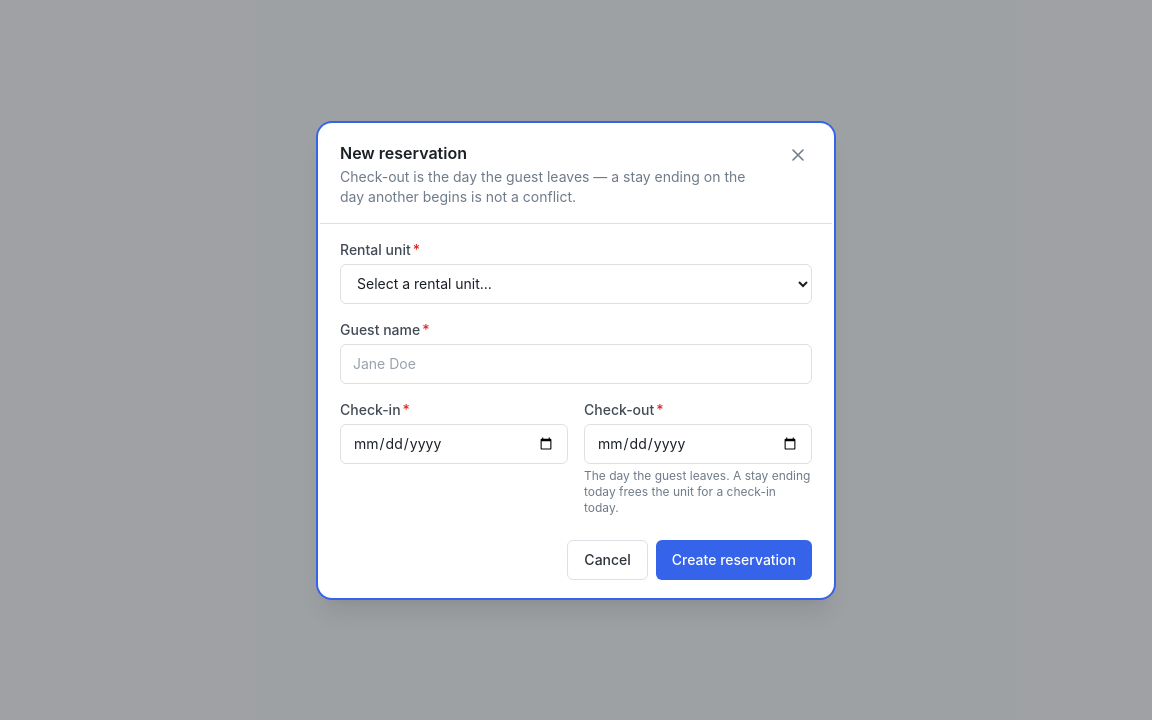
ReservationFormModal — create › sends nothing when the client-side date check fails
Select "Seaside flat" in the dropdown labelled "Rental unit*" at (576, 284), box [340, 264, 812, 304]
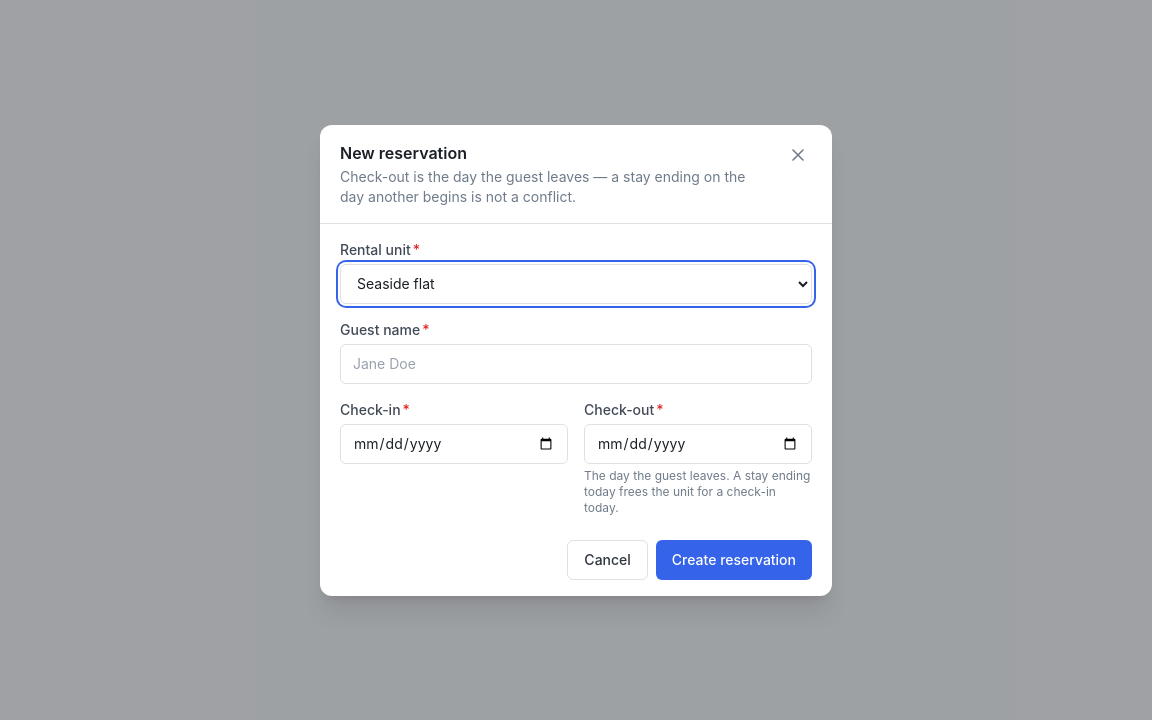
Type "Sam Patel" into the field labelled "Guest name*" at (576, 364), box [340, 344, 812, 384]
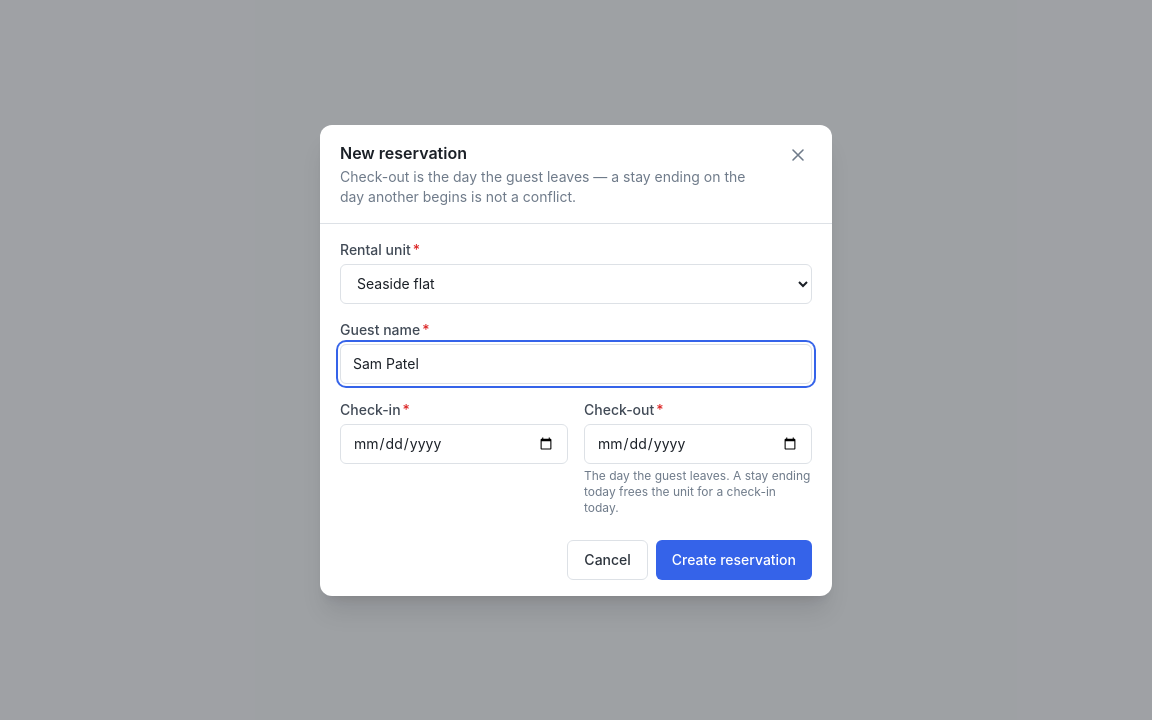
Type "2026-03-16" into the date field labelled "Check-in*" at (454, 444), box [340, 424, 568, 464]
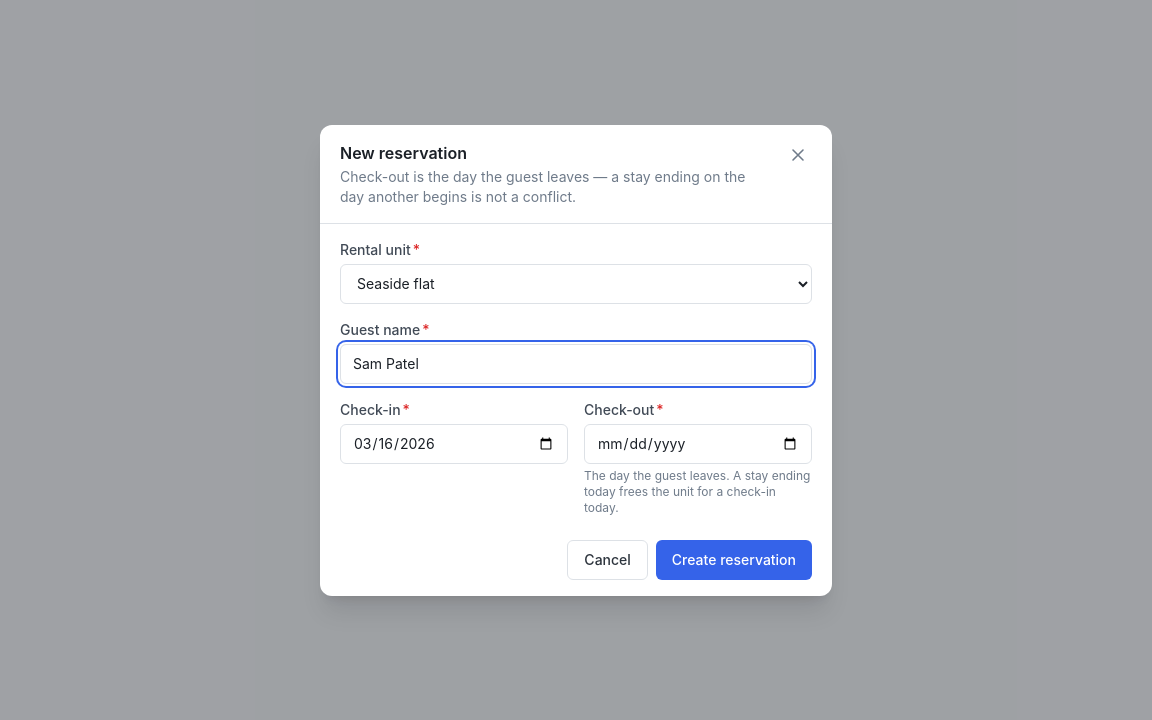
Type "2026-03-13" into the date field labelled "Check-out*" at (698, 444), box [584, 424, 812, 464]
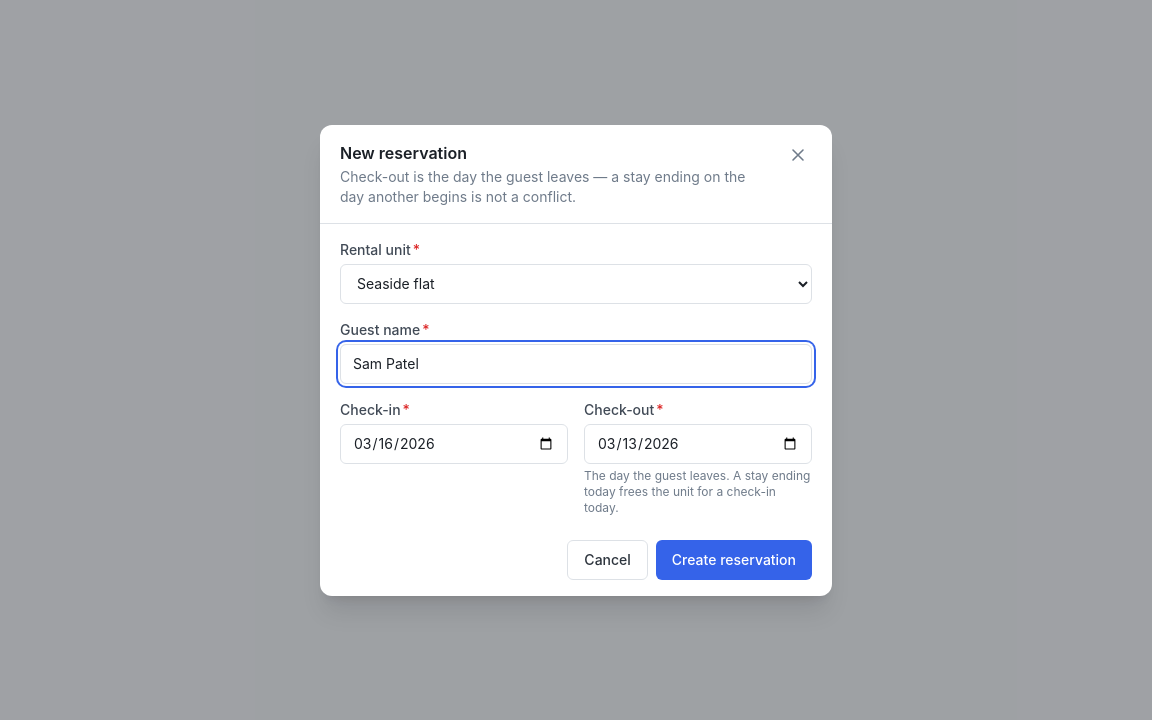
Click the button "Create reservation" at (734, 560), box [656, 540, 812, 580]
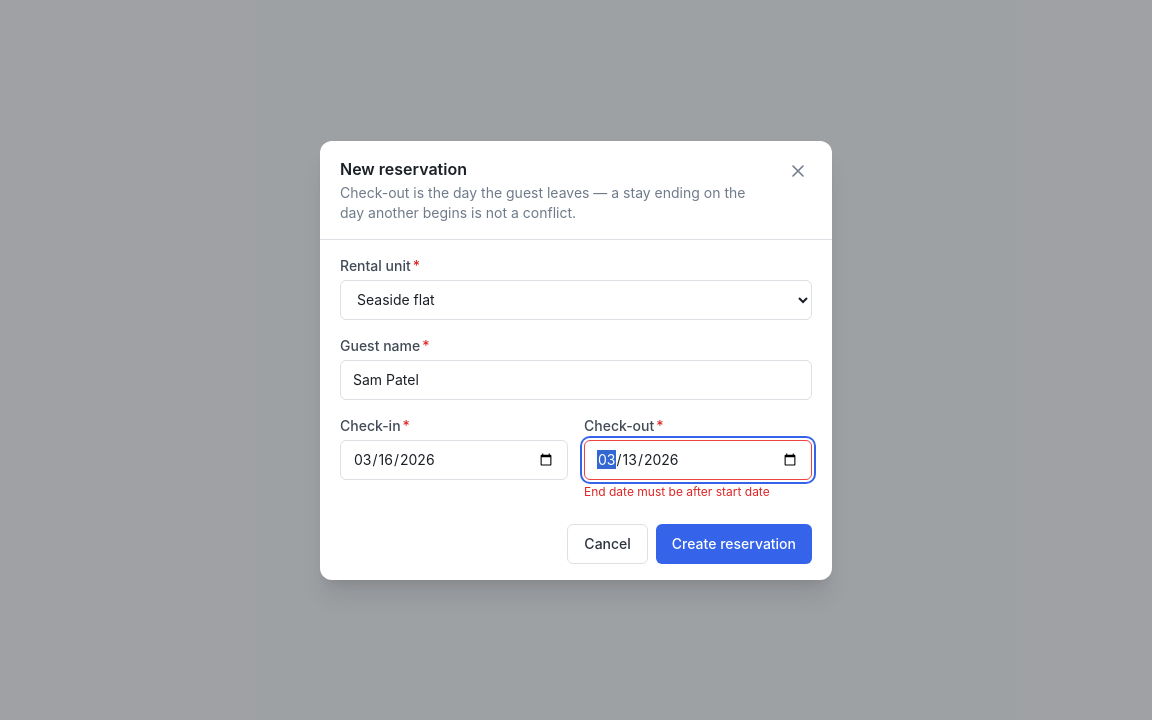
Now the text "End date must be after start date" is shown, box [584, 484, 770, 498]
